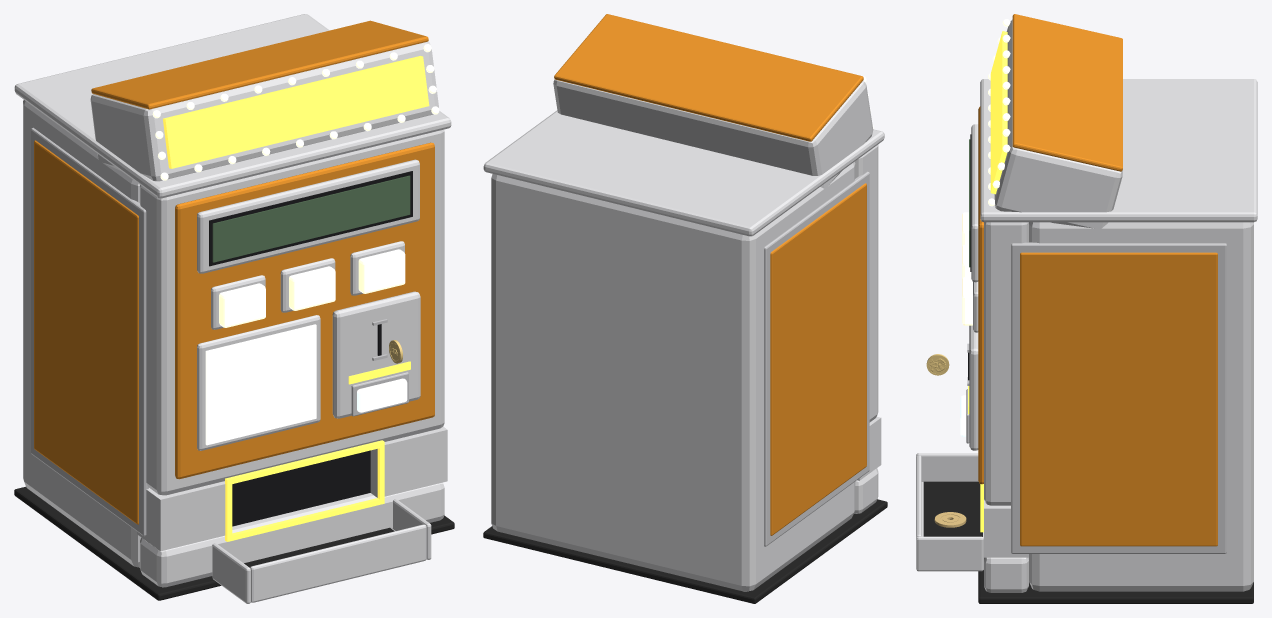
The model's file is gettoni.glb.
The picture shows the model from 3 angles, left to right: view 1: azimuth 30°, elevation 25°; view 2: azimuth 150°, elevation 25°; view 3: azimuth 270°, elevation 25°; orthographic projection. The views are drawn at different scales.
Parts seen in each view (by area): view 1: corpo, pannello, insegna, targa, display, tasto_10, tasto_5, tasto_1, tasto_cambio, lampadine_b, lampadine_a; view 2: corpo; view 3: corpo, pannello, insegna, tasto_10.
Boxes of the visible parts, <box> form: corpo: <box>14,14,454,603</box>; pannello: <box>197,159,420,450</box>; insegna: <box>163,56,429,168</box>; targa: <box>205,324,316,445</box>; display: <box>212,175,410,262</box>; tasto_10: <box>358,249,405,293</box>; tasto_5: <box>289,266,335,310</box>; tasto_1: <box>219,283,265,327</box>; tasto_cambio: <box>357,378,407,412</box>; lampadine_b: <box>152,44,436,172</box>; lampadine_a: <box>155,52,439,180</box>; corpo: <box>483,14,887,603</box>; corpo: <box>916,14,1257,603</box>; pannello: <box>966,124,978,450</box>; insegna: <box>990,31,1007,194</box>; tasto_10: <box>962,277,972,325</box>.
Size of the model in its own units: 0.362 by 0.5605 by 0.379.
